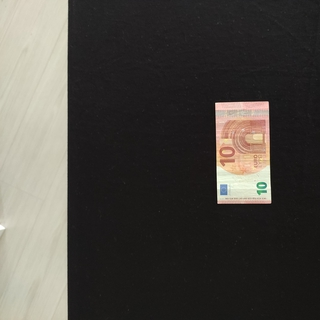10EUROFront: (214, 101, 272, 204)
